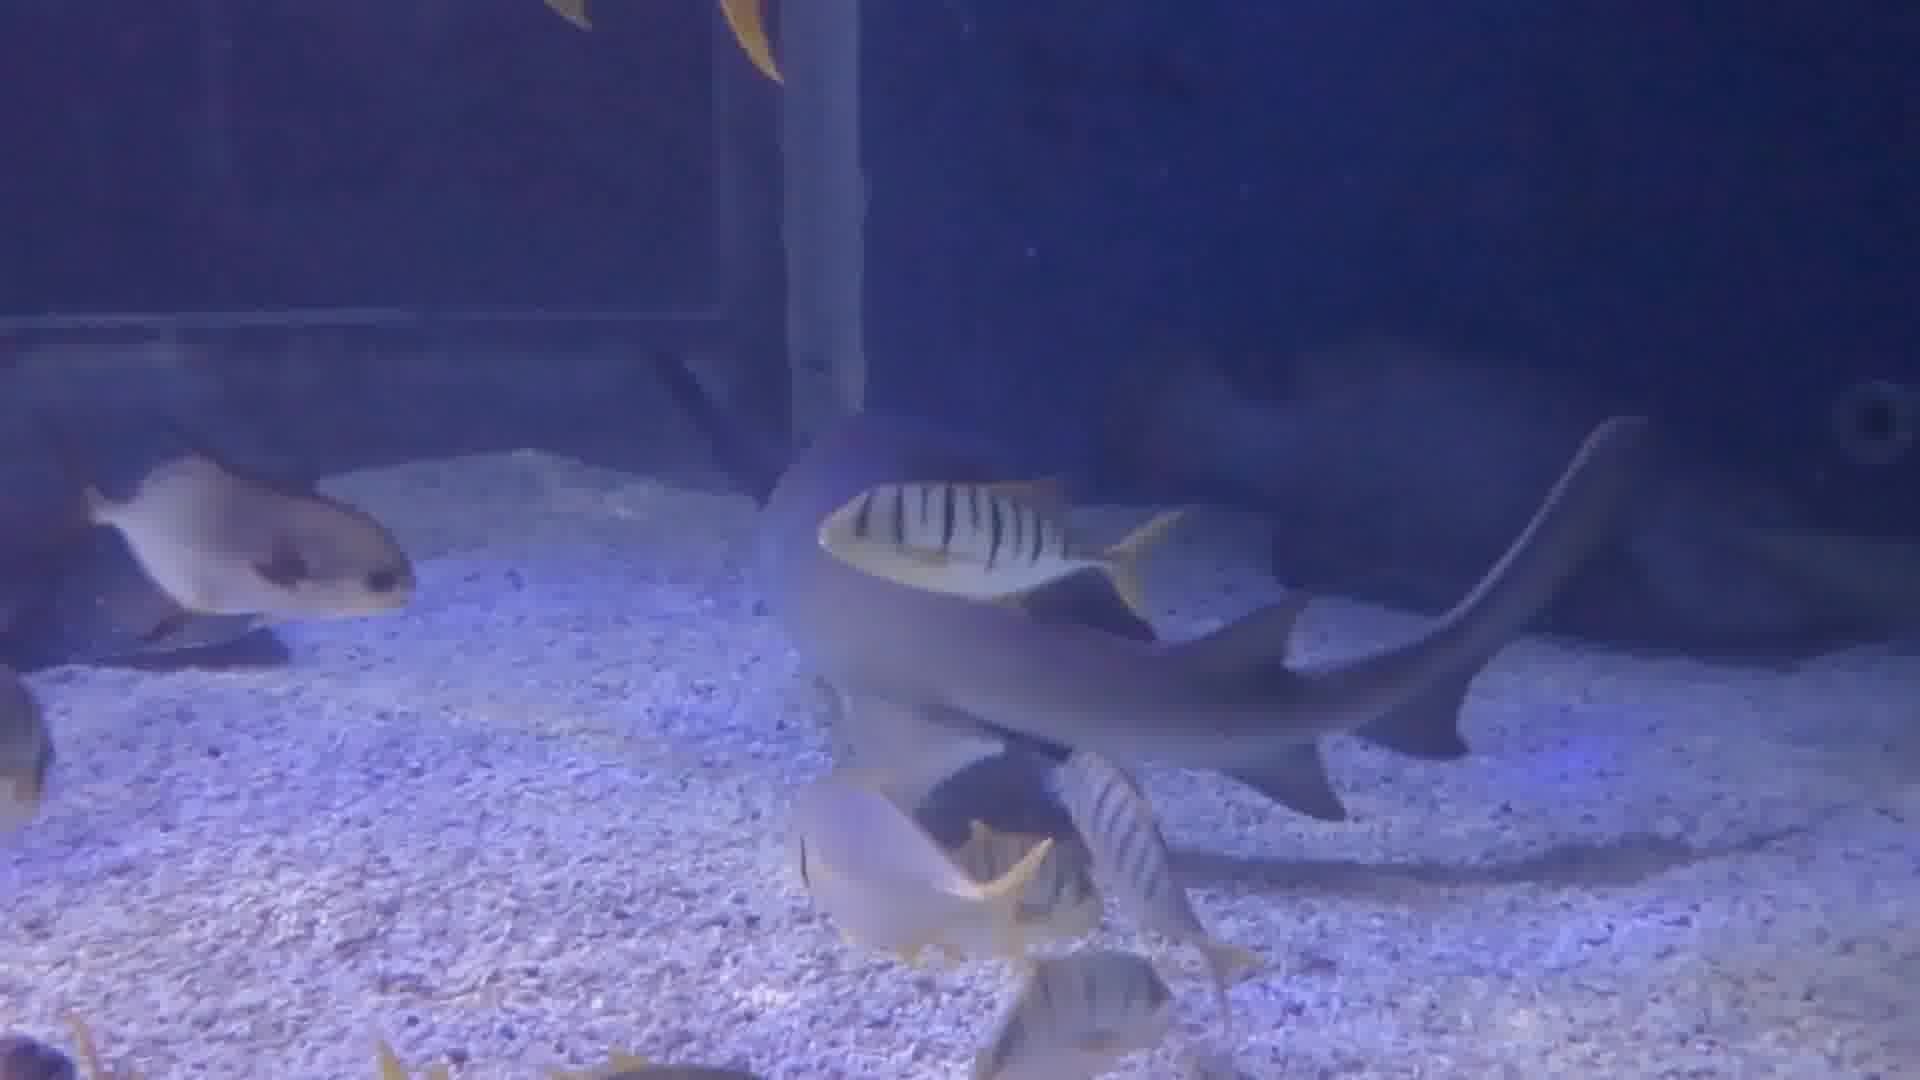Nebrius ferrugineus: (753, 415, 1679, 778)
